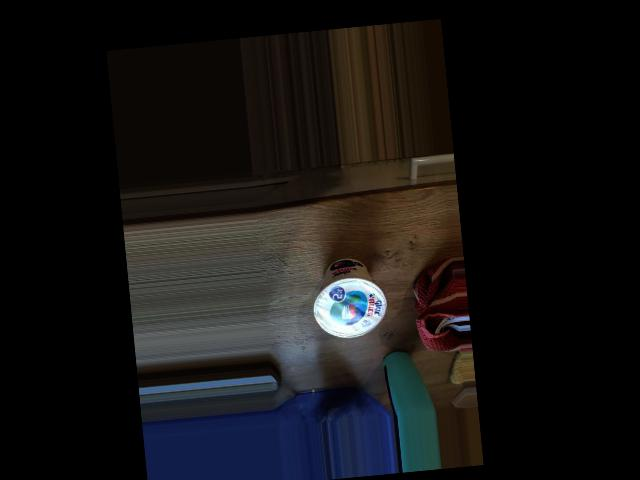cotage: (313, 252, 386, 344)
